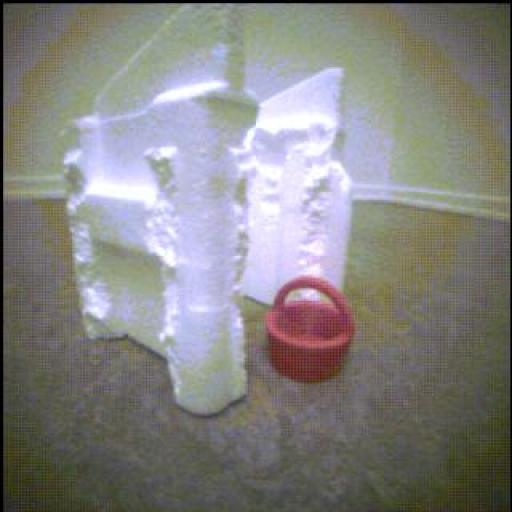Bucket: (267, 278, 356, 383)
